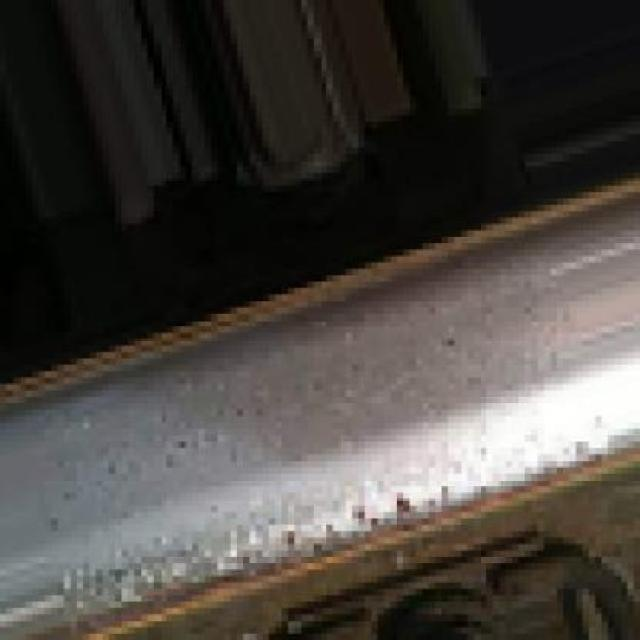non-defective: (8, 172, 640, 639)
